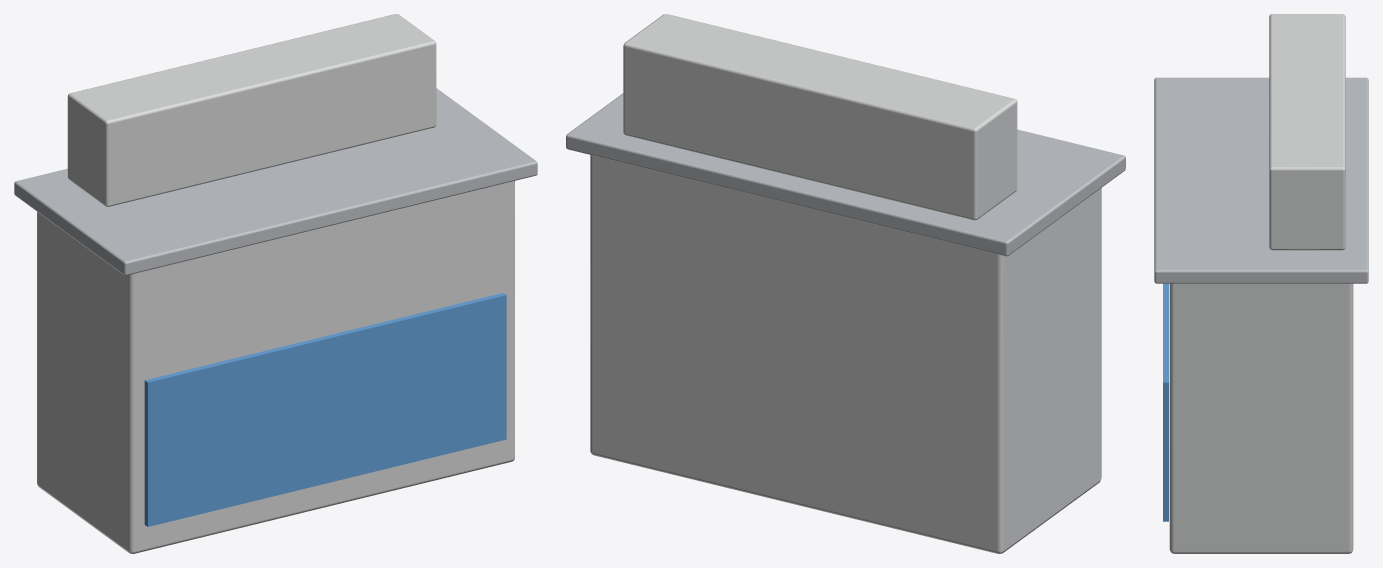
Rendered from solar-system-and-astronauts-ticket-desk-d32e69fb__39275.glb.
The picture shows the model from 3 angles, left to right: view 1: azimuth 30°, elevation 25°; view 2: azimuth 150°, elevation 25°; view 3: azimuth 270°, elevation 25°; orthographic projection. The views are drawn at different scales.
Visible parts, largest first — view 1: ticket-desk; view 2: ticket-desk; view 3: ticket-desk.
Part boxes in pixels (x1,y1,x2,y2): ticket-desk: (14, 14, 537, 553); ticket-desk: (566, 14, 1125, 553); ticket-desk: (1154, 14, 1368, 553).
Size of the model in its own units: 1.5 by 1.35 by 0.6999.
